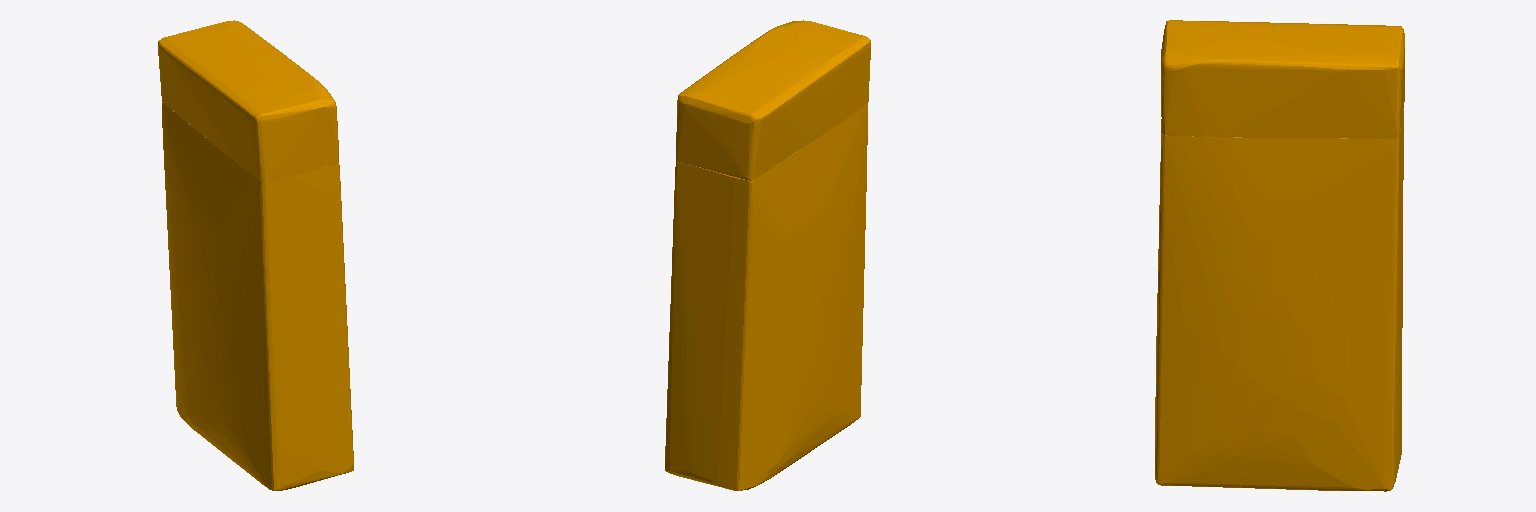
robot.urdf — 004_sugar_box:
<?xml version="1.0" encoding="UTF-8"?>
<robot name="004_sugar_box">
	<link name="base">
		<collision>
			<geometry>
				<mesh filename="..\vhacd\004_sugar_box_vhacd.obj" scale="1.0 1.0 1.0"/>
			</geometry>
			<origin xyz="0 0 0"/>
			<contact_coefficients mu="0.24" />
		</collision>
		<visual>
			<geometry>
				<mesh filename="..\vhacd\004_sugar_box_vhacd.obj" scale="1.0 1.0 1.0"/>
			</geometry>
			<origin xyz="0 0 0"/>
		</visual>
		<inertial>
			<mass value="0"/>
			<inertia ixx="0.0" ixy="-0.0" ixz="0.0" iyy="0.0" iyz="-0.0" izz="0.0" />
			<origin xyz="-0.0076984155155044665 -0.01707816316033461 0.08602381406326225"/>
		</inertial>
	</link>
</robot>

--- Render facts (derived) ---
The picture shows the robot from 3 angles, left to right: view 1: azimuth 30°, elevation 25°; view 2: azimuth 150°, elevation 25°; view 3: azimuth 270°, elevation 25°; orthographic projection.
Robot: 004_sugar_box — 1 links, 0 joints (none); root link base; default pose: all joints at 0.
Links seen in each view (by area): view 1: base; view 2: base; view 3: base.
Link boxes in pixels (x1,y1,x2,y2): base: (158, 20, 353, 490); base: (665, 20, 870, 490); base: (1155, 20, 1404, 491).
Size in the robot's own frame: 0.0499 by 0.0945 by 0.1764 metres.
Meshes: 1 distinct files referenced, 1 mesh visuals loaded (1 OBJ).